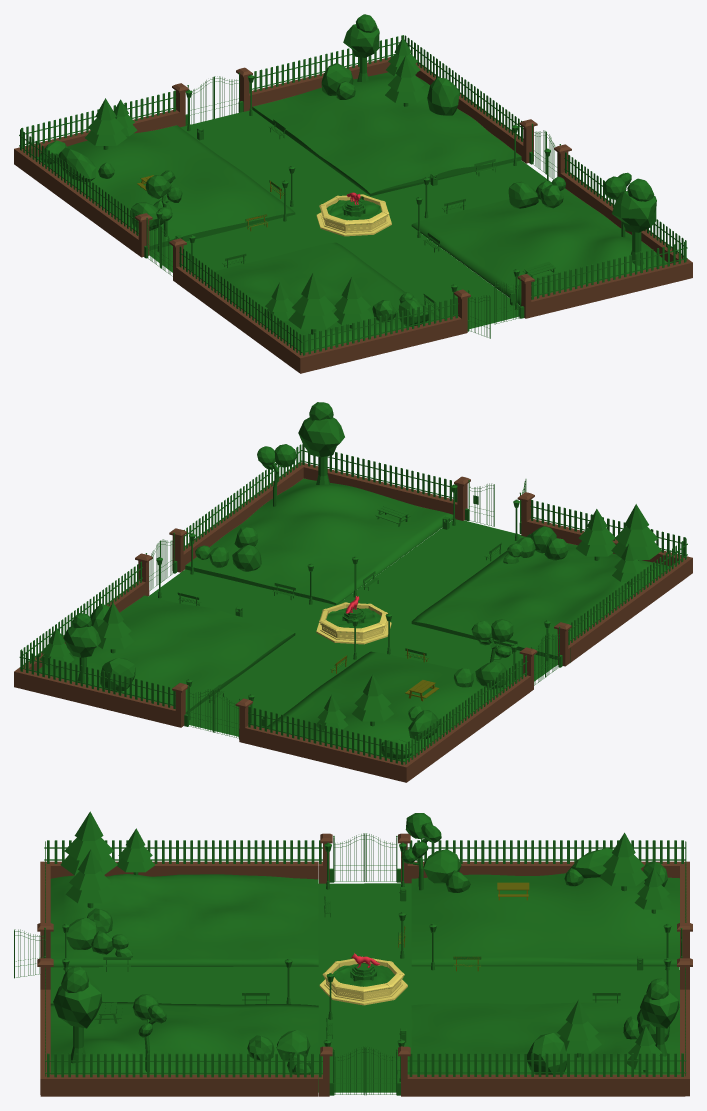
File: park.fbx
The picture shows the model from 3 angles, top to bottom: view 1: azimuth 30°, elevation 25°; view 2: azimuth 150°, elevation 25°; view 3: azimuth 270°, elevation 25°; orthographic projection. The views are drawn at different scales.
Parts seen in each view (by area): view 1: abete; view 2: abete; view 3: abete.
Part boxes in pixels (x1,y1,x2,y2): abete: (14,14,692,373); abete: (14,402,692,782); abete: (14,811,692,1096).
Size of the model in its own units: 5265 by 1206 by 6874.
